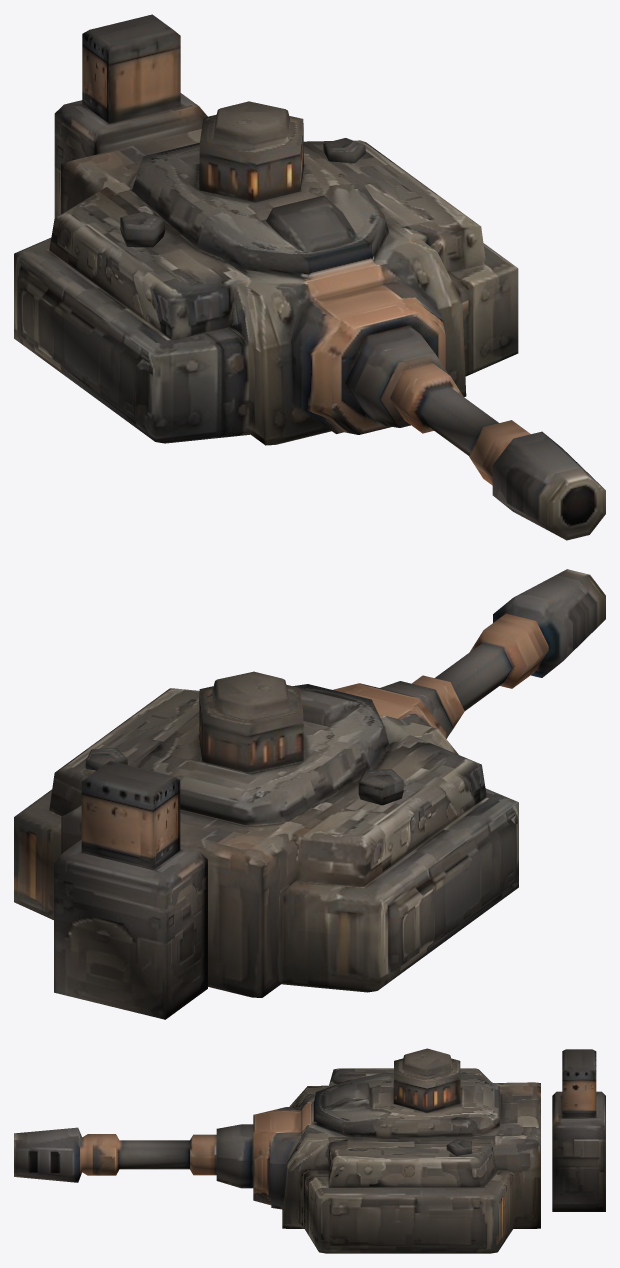
File: Tank_Turret.glb
The picture shows the model from 3 angles, top to bottom: view 1: azimuth 30°, elevation 25°; view 2: azimuth 150°, elevation 25°; view 3: azimuth 270°, elevation 25°; orthographic projection. The views are drawn at different scales.
Visible parts, largest first — view 1: tripo_node_2f05e68a-eeb5-4d24-a6e2-726a3c4095e0; view 2: tripo_node_2f05e68a-eeb5-4d24-a6e2-726a3c4095e0; view 3: tripo_node_2f05e68a-eeb5-4d24-a6e2-726a3c4095e0.
Boxes of the visible parts, box(x1,y1,x2,y2) form: tripo_node_2f05e68a-eeb5-4d24-a6e2-726a3c4095e0: box(14, 14, 605, 540); tripo_node_2f05e68a-eeb5-4d24-a6e2-726a3c4095e0: box(14, 569, 605, 1019); tripo_node_2f05e68a-eeb5-4d24-a6e2-726a3c4095e0: box(14, 1048, 605, 1253).
Bounding box in the file's own units: 0.4692 × 0.27 × 0.9995.
1 material, 1 textured.
